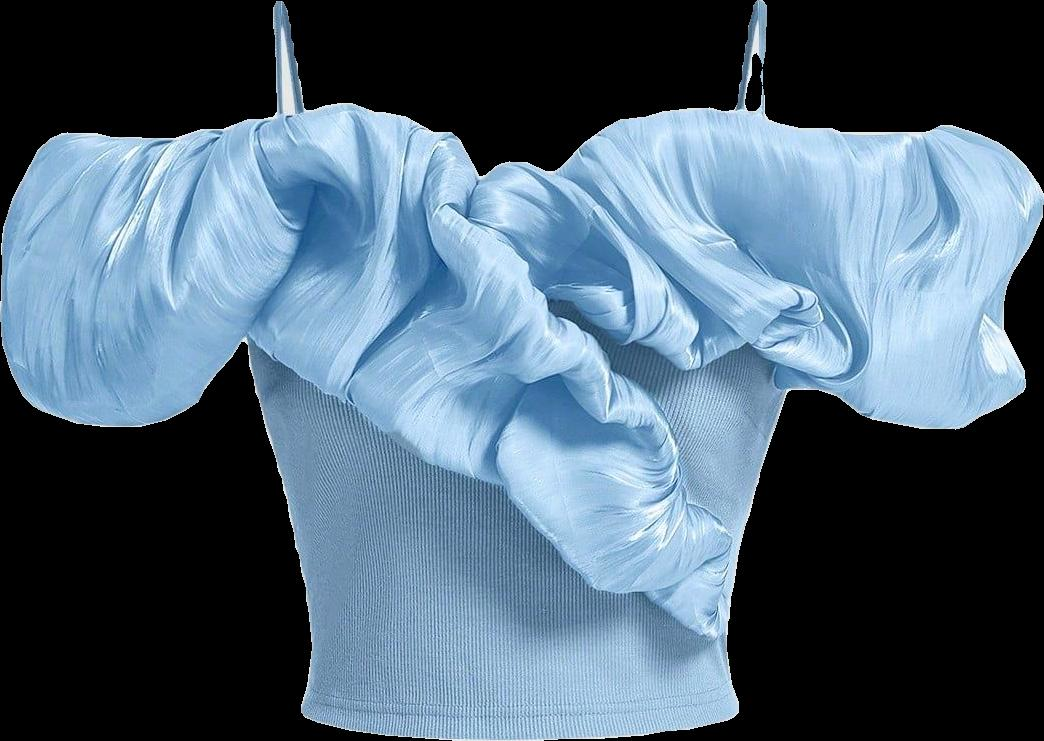Bodice: (2, 0, 1043, 739)
Neckline: (52, 0, 1016, 183)
Waistline: (295, 705, 747, 740)
